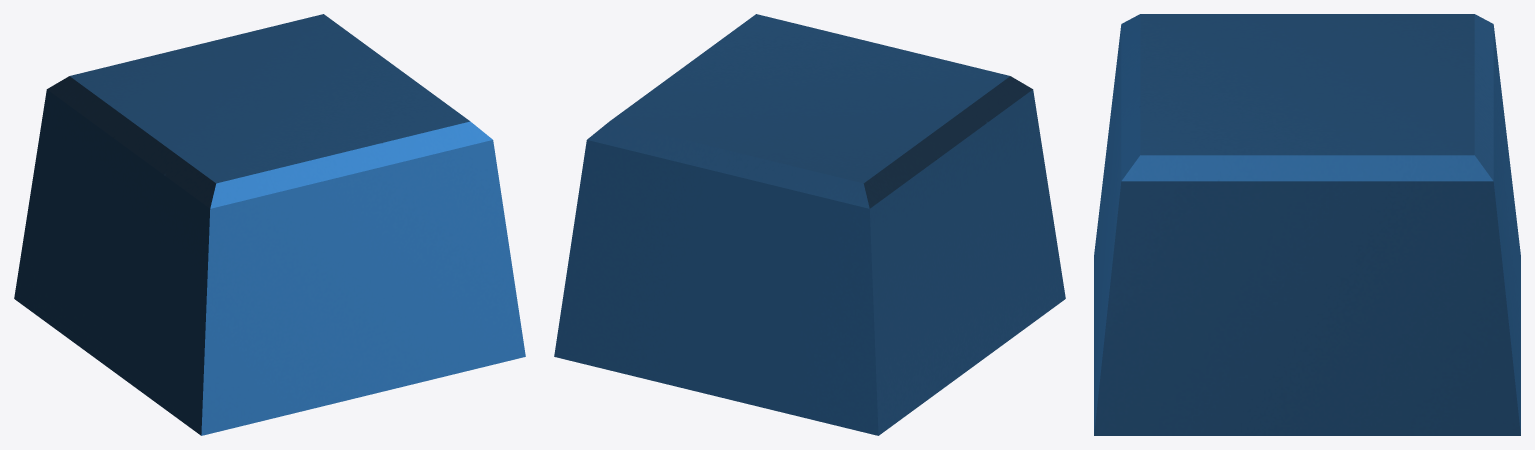
The model's file is manualgun_base.obj.
3 renders of one model, left to right at view 1: azimuth 30°, elevation 25°; view 2: azimuth 150°, elevation 25°; view 3: azimuth 270°, elevation 25°, orthographic. The views are drawn at different scales.
Visible parts, largest first — view 1: gunBase; view 2: gunBase; view 3: gunBase.
Boxes of the visible parts, <box> form: gunBase: <box>14,14,525,435</box>; gunBase: <box>554,14,1065,435</box>; gunBase: <box>1094,14,1520,435</box>.
Size of the model in its own units: 13.1 by 8.84 by 13.1.
Materials: 1 (1 with a texture image).
